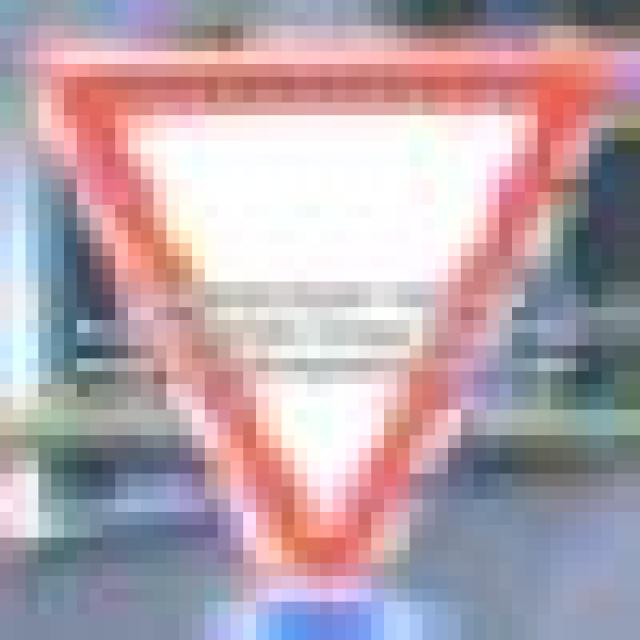gap_in_median: (26, 38, 627, 576)
